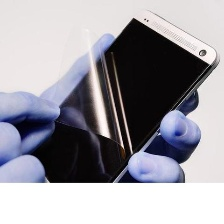phone: (0, 7, 222, 213)
